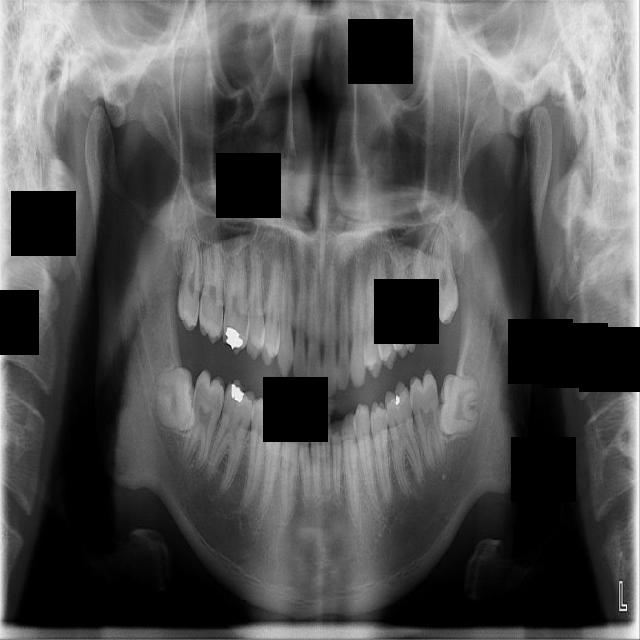3M ESPE Implant: (176, 228, 206, 335)
52: (219, 377, 261, 428), (377, 378, 418, 427), (411, 289, 441, 348), (219, 307, 252, 355), (388, 308, 415, 359)
73: (598, 570, 602, 584)
BioHorizons Implant: (411, 227, 440, 348)
BioLife Implant: (430, 222, 461, 327)
Biomet 3i Implant: (437, 371, 482, 440)
Blue Sky Bio Implant: (407, 369, 448, 472)
Caries: (199, 225, 225, 346)
Implant: (175, 365, 233, 472)
Keystone Dental Implant: (155, 364, 198, 431)
